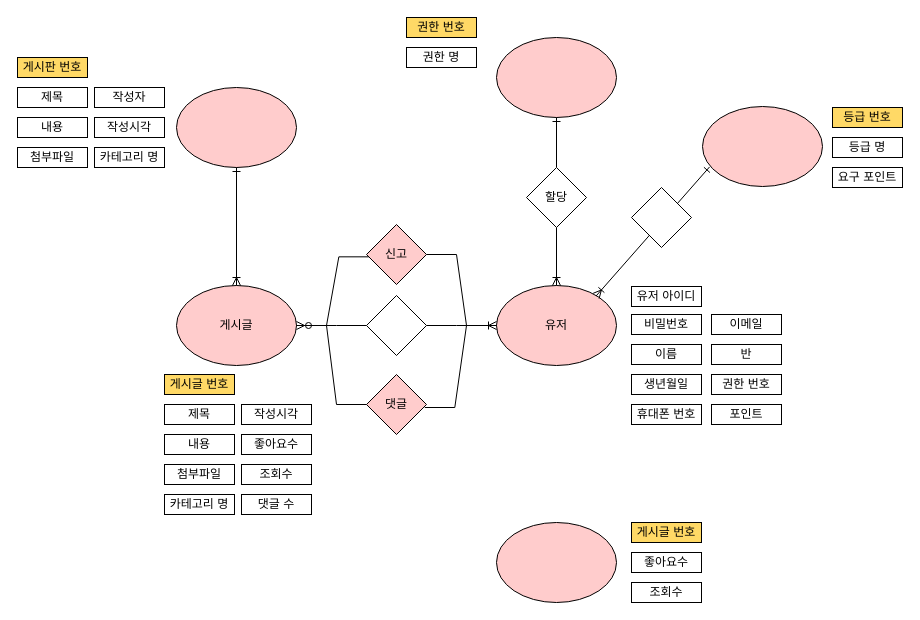
Image size: 920x620. Some labels were removed from this diagram. Each missing label, with the centre of its shape:
게시글 작성: the point at 396,325
게시판: the point at 236,127
권한: the point at 556,77
등급: the point at 762,146
등급 설정: the point at 661,217
통계: the point at 556,562
